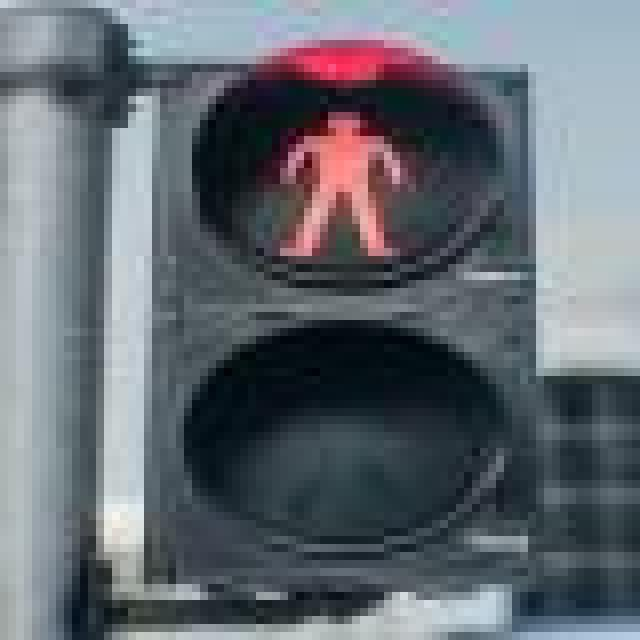redlight: (128, 48, 560, 584)
